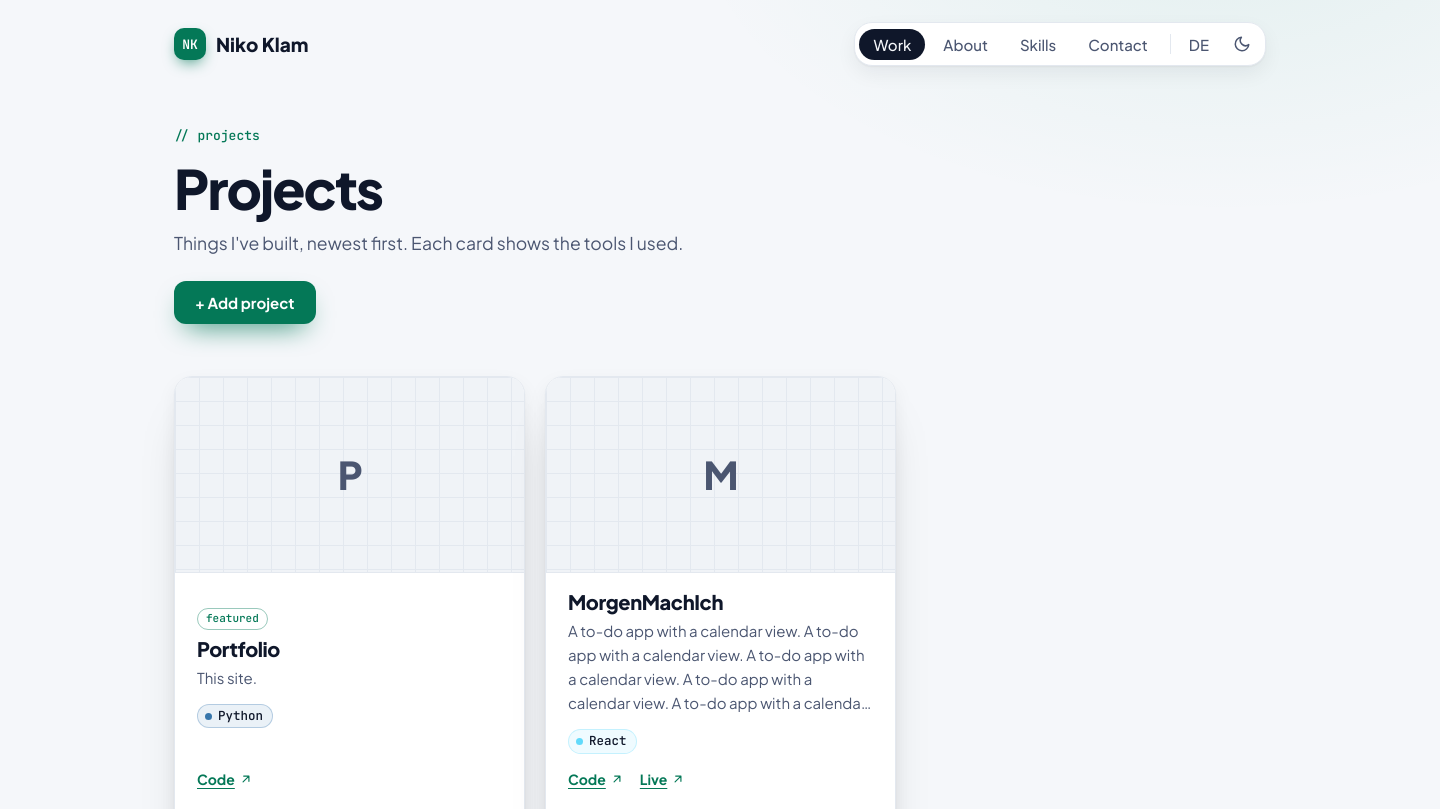
project modal › lets the owner delete a project after confirming it
This screenshot has width=1440, height=809.
Step 1. Click the link "MorgenMachIch" → [645, 602], box [568,591,723,613]
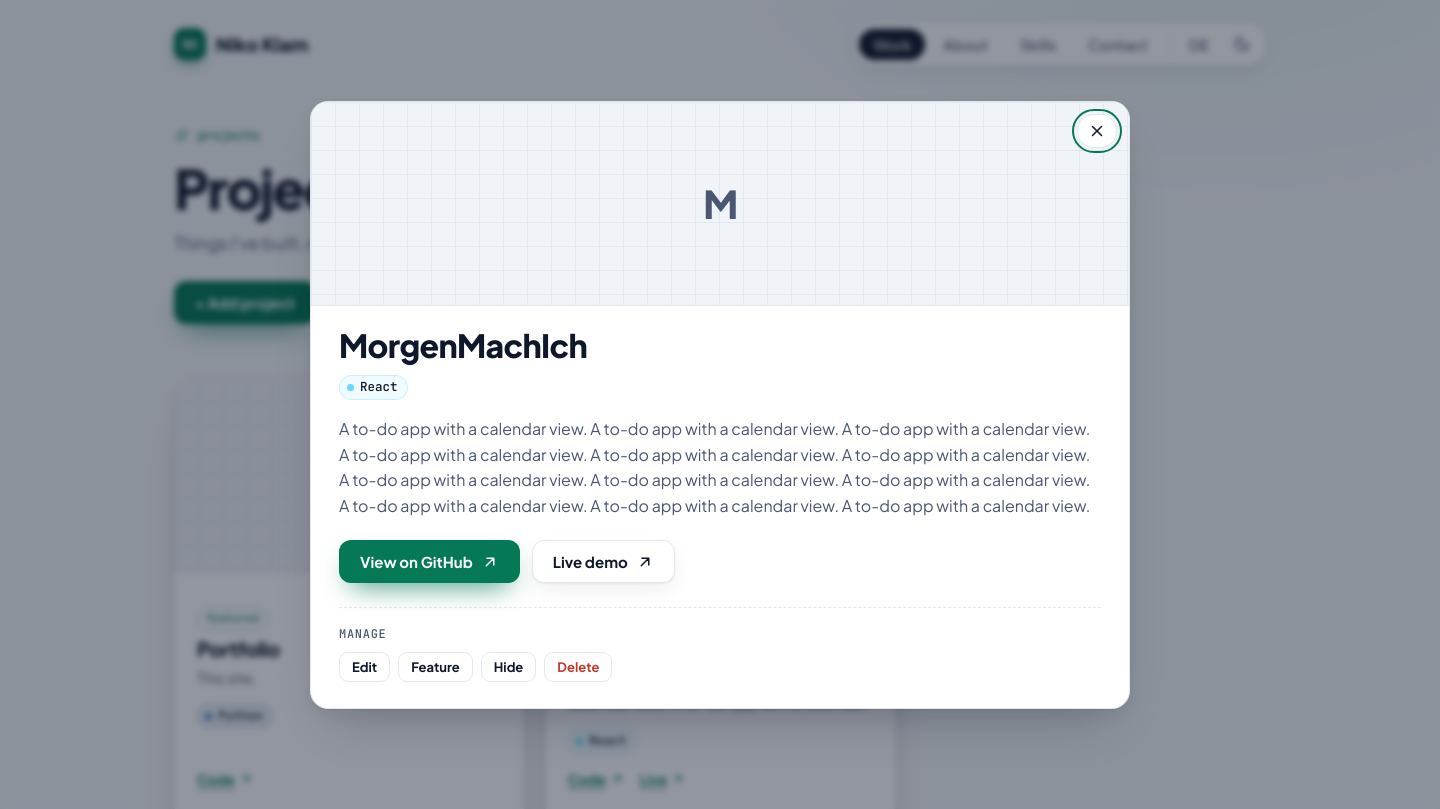
Step 2. Click the button "Delete" → [578, 667], box [544,652,612,682]
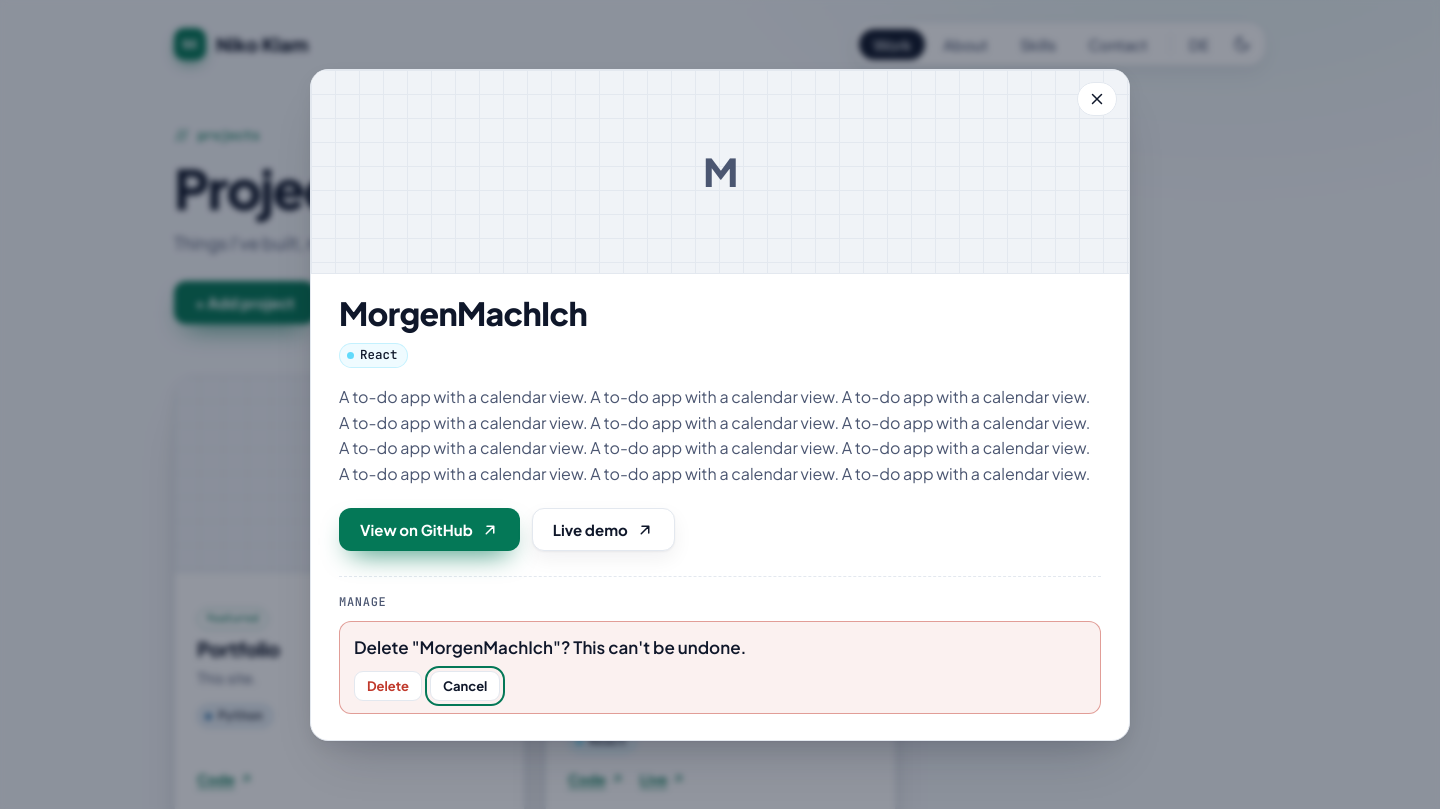
Now the text "Delete \"MorgenMachIch\"? This can't be undone." is shown, box [354,636,746,658]
Step 3. Click the button "Delete" → [388, 686], box [354,671,422,701]
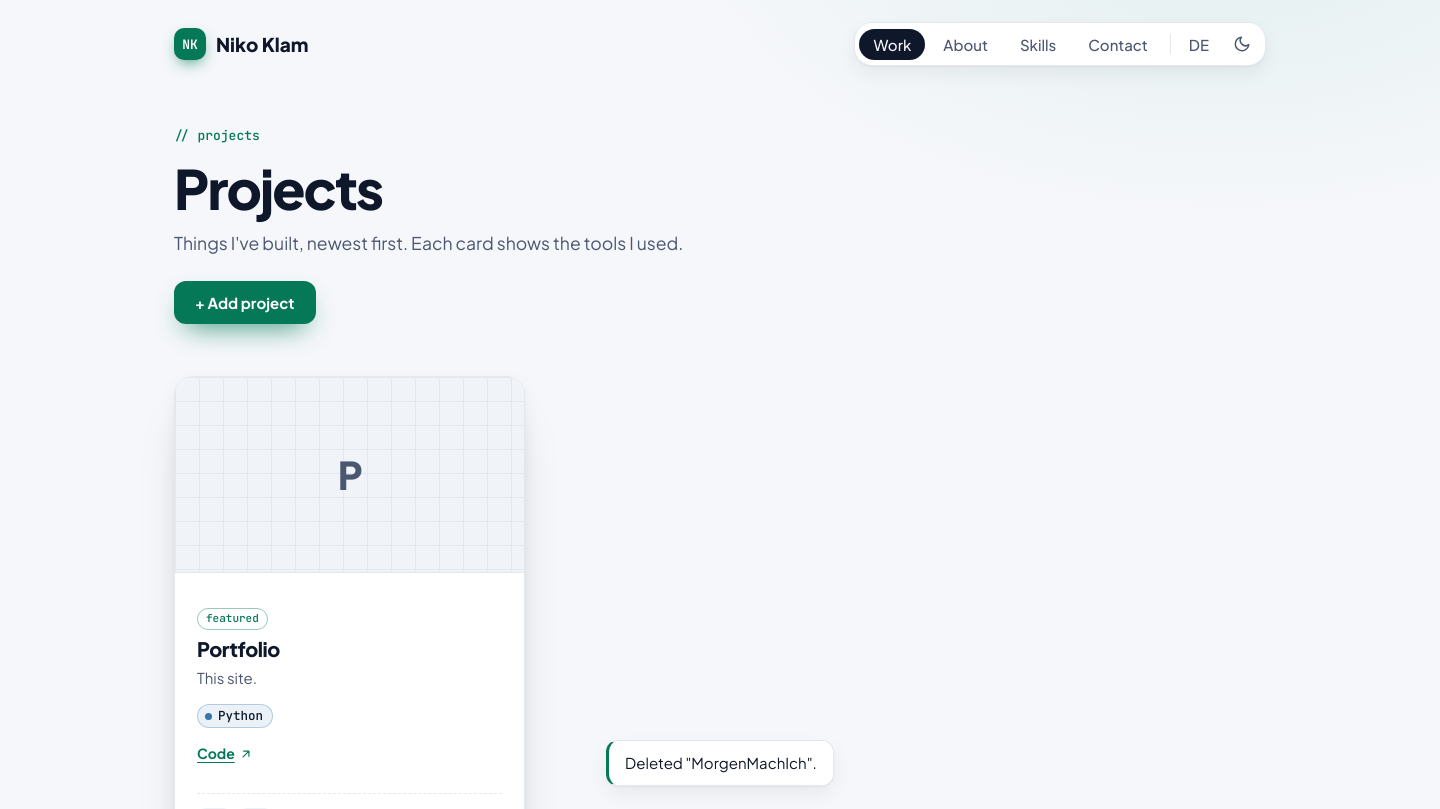
Now the message reads "Deleted \"MorgenMachIch\".", box [625,753,817,772]
